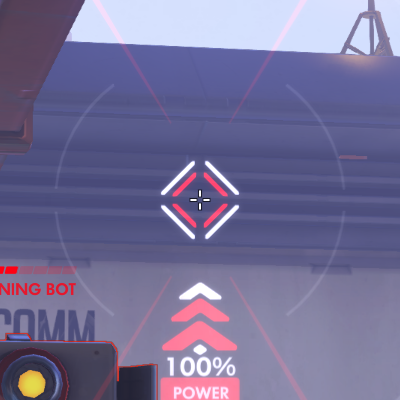hpbar: (1, 264, 77, 275)
